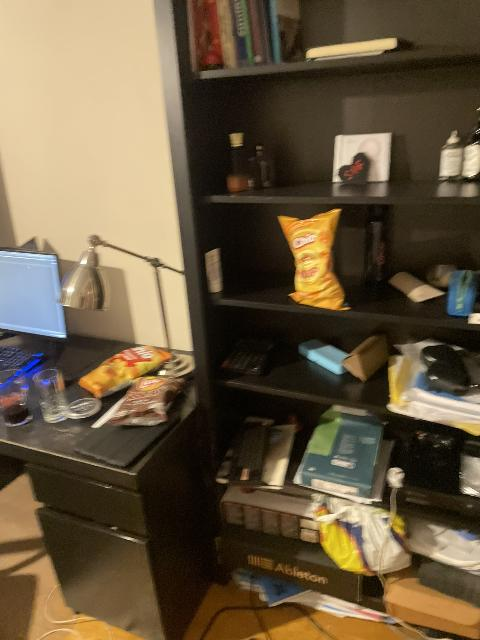Chio Cascaval 125g: (78, 344, 174, 397)
Chio Hula Hoops Cheese 70g: (276, 208, 347, 311)
Lays Beef Grilled Ribs 125g: (99, 376, 186, 426)
